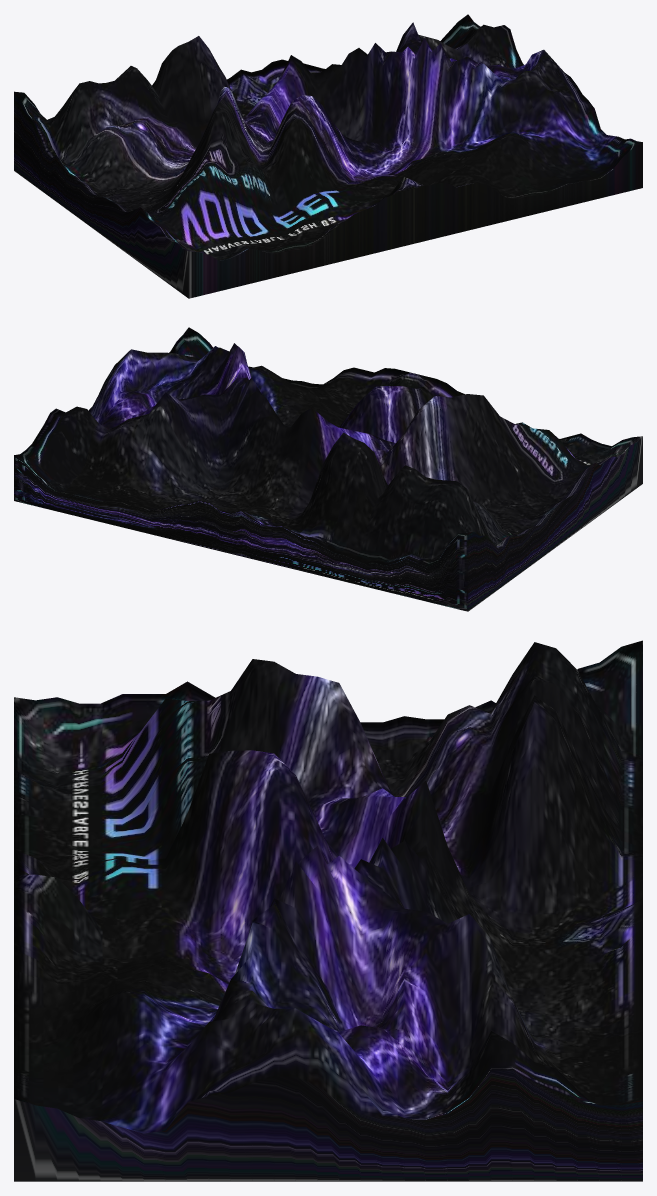
File: FISH_02_Void_Eel.glb
The picture shows the model from 3 angles, top to bottom: view 1: azimuth 30°, elevation 25°; view 2: azimuth 150°, elevation 25°; view 3: azimuth 270°, elevation 25°; orthographic projection. The views are drawn at different scales.
Visible parts, largest first — view 1: FISH_02_Void_Eel; view 2: FISH_02_Void_Eel; view 3: FISH_02_Void_Eel.
Boxes of the visible parts, x1,y1,x2,y2 form: FISH_02_Void_Eel: (14,14,642,298); FISH_02_Void_Eel: (14,327,642,611); FISH_02_Void_Eel: (14,640,642,1181).
Size of the model in its own units: 2 by 0.51 by 1.33.
Materials: 1 (1 with a texture image).
